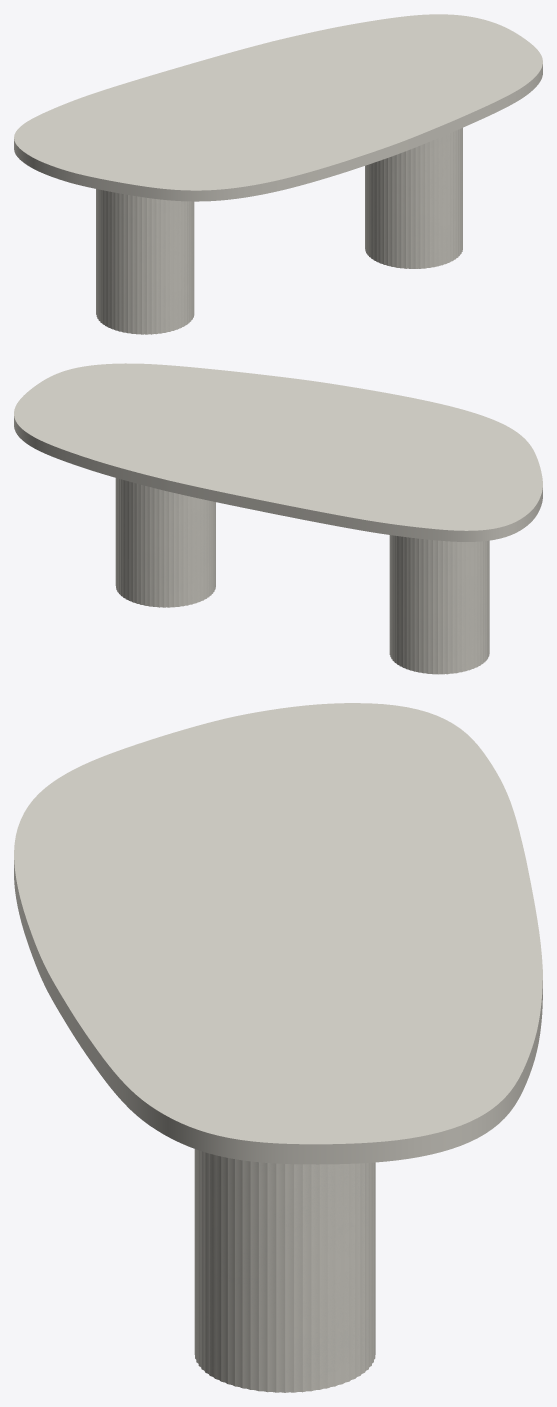
The model's file is pale_leaf2_standard_ripplesecond.glb.
3 renders of one model, top to bottom at view 1: azimuth 30°, elevation 25°; view 2: azimuth 150°, elevation 25°; view 3: azimuth 270°, elevation 25°, orthographic. The views are drawn at different scales.
Parts seen in each view (by area): view 1: standard_leaf2, ripplesecond; view 2: standard_leaf2, ripplesecond; view 3: standard_leaf2, ripplesecond.
Part boxes in pixels (x1=…): standard_leaf2: x1=14, y1=14, x2=542, y2=201; ripplesecond: x1=96, y1=128, x2=462, y2=334; standard_leaf2: x1=14, y1=363, x2=542, y2=541; ripplesecond: x1=115, y1=478, x2=489, y2=674; standard_leaf2: x1=14, y1=703, x2=542, y2=1164; ripplesecond: x1=194, y1=1149, x2=375, y2=1392.
Size of the model in its own units: 7.5 by 2.52 by 3.8.
1 material, 1 textured.
